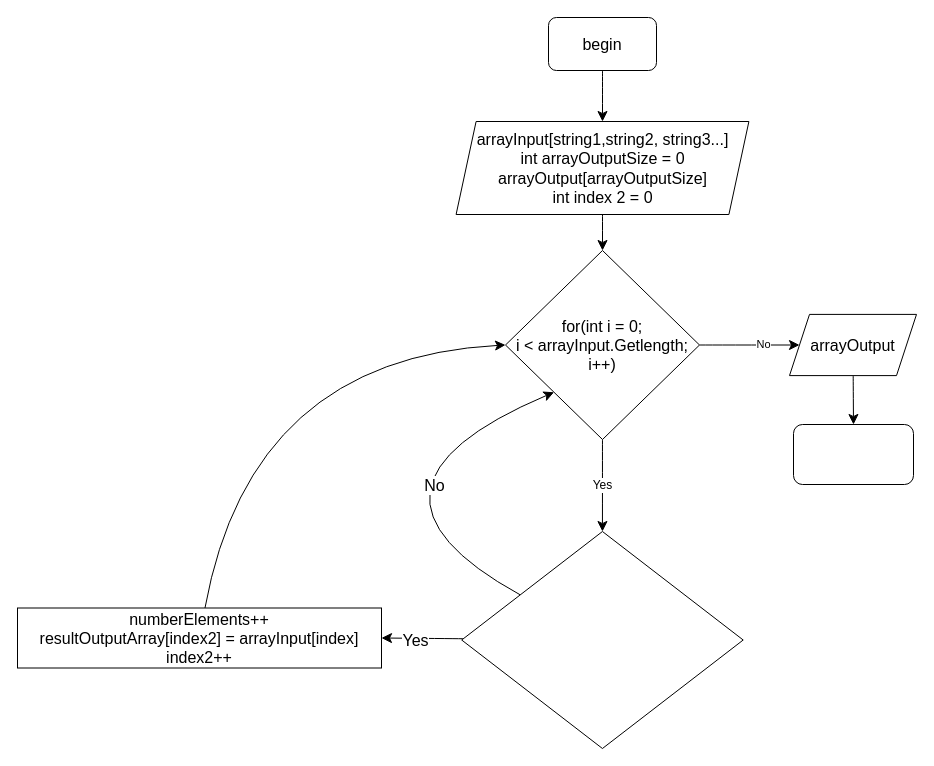
Some shapes in this 934 by 766 pixel diagram are drawn without their labels. Here are the shapes that lost their labels. From the top down, the box of each, then its label:
(792, 424, 914, 484): end
(461, 530, 743, 748): if arrayInput[index].Length <= 3
